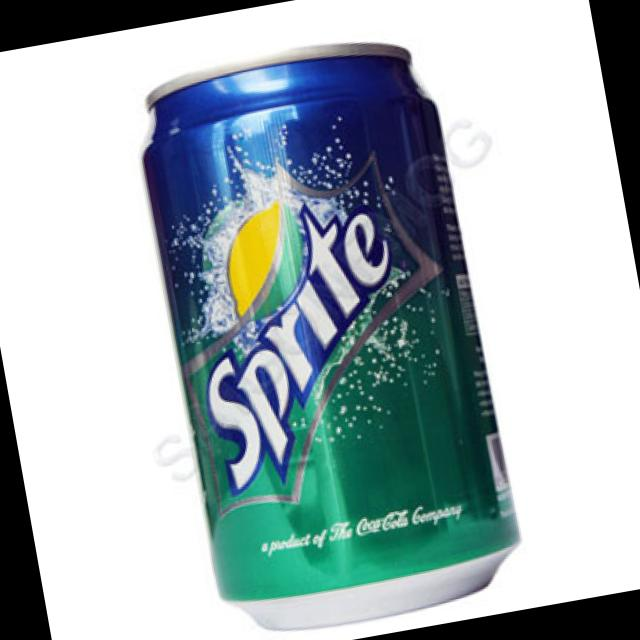sprite: (106, 10, 528, 640)
